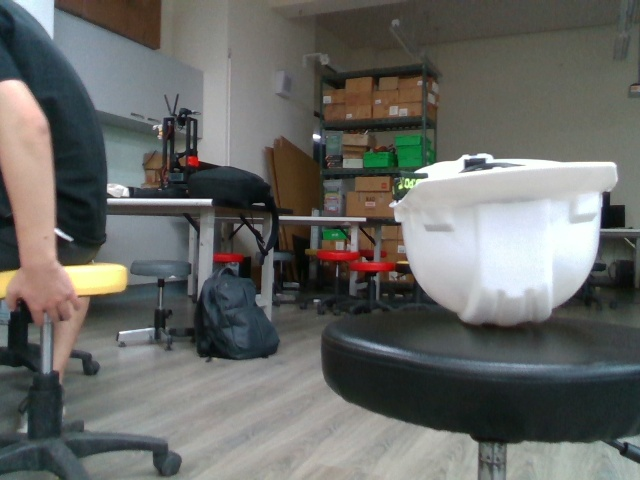helmet: (387, 148, 620, 328)
